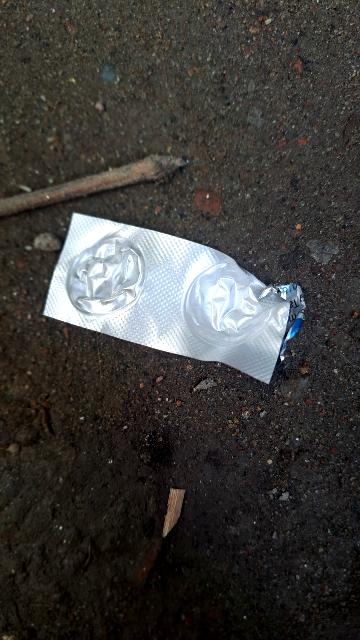medicine: (41, 214, 308, 385)
